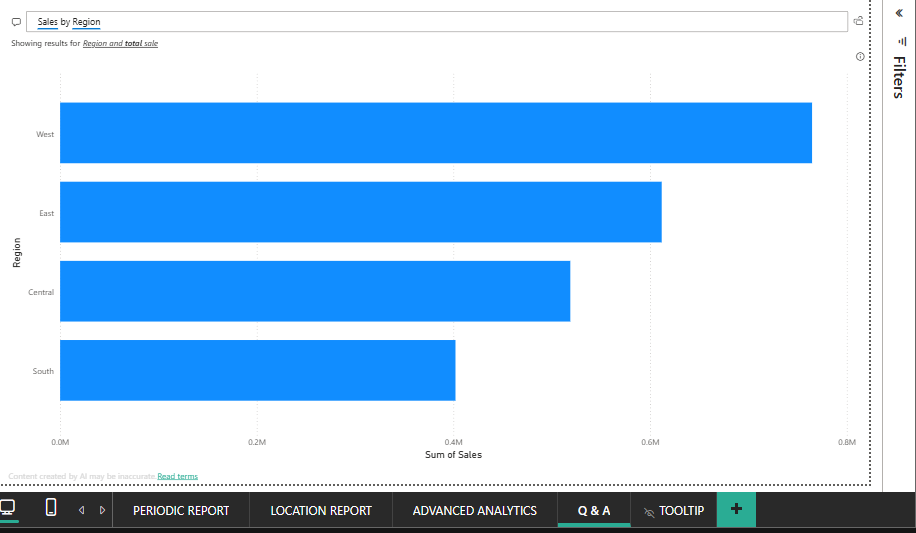

This screenshot's page, from the dashboard's own definition file:
{"tool":"powerbi","page":{"name":"Q & A ","canvas":[1280,720],"ordinal":3},"visuals":[{"type":"qnaVisual","box":[10.3,0,1269.6,720],"z":0}]}

Visuals, with their boxes on the page's 1280x720 design canvas (x1, y1, x2, y2). These are canvas units, not pixel positions in the 916x533 screenshot, which may show the page scaled, cropped or inside an application window:
qnaVisual: (10, 0, 1280, 720)
